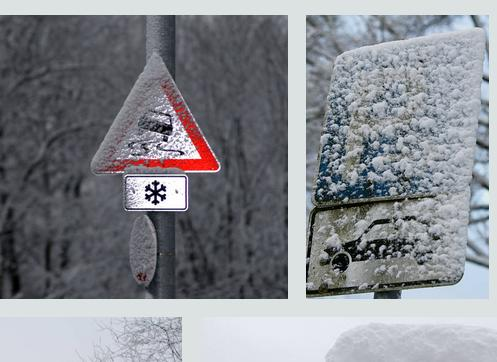obstructed_road_sign: (312, 27, 486, 207), (306, 192, 470, 298), (91, 54, 220, 175)
road_sign: (124, 174, 187, 211)
